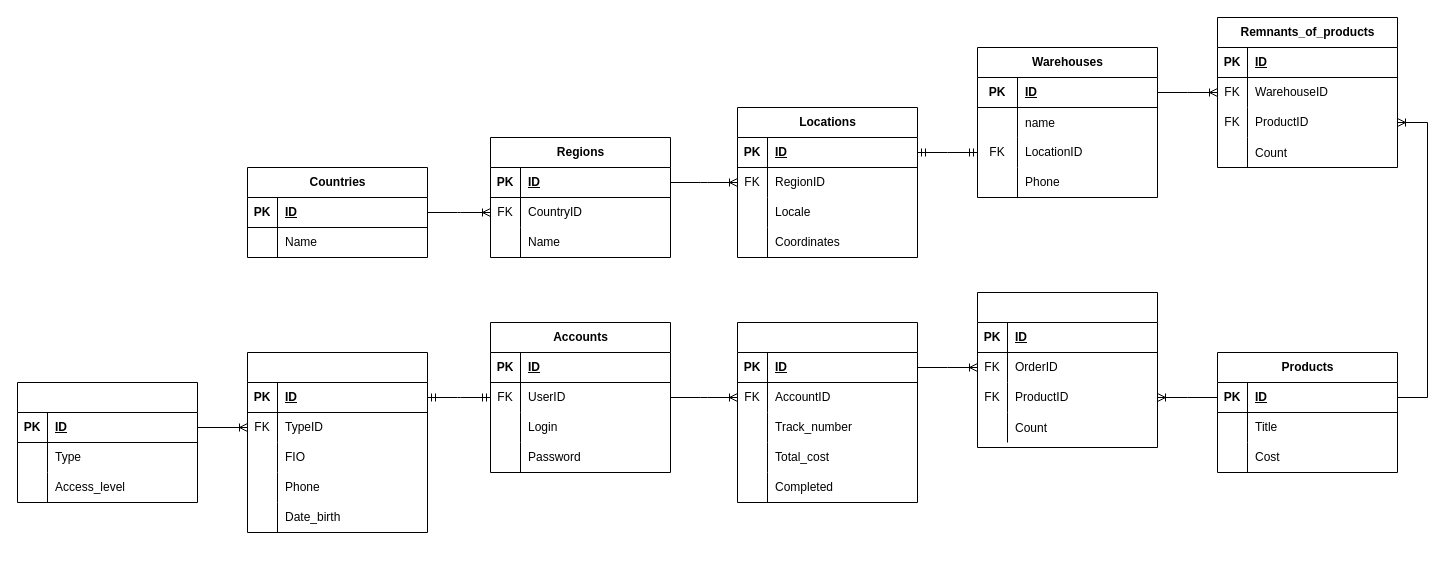
Some shapes in this 1453 by 575 pixel diagram are drawn without their labels. Each missing label, with the box of its shape:
List_of_products: (976, 292, 1158, 448)
Orders: (736, 322, 918, 502)
TypesOfUsers: (16, 382, 198, 502)
Users: (246, 352, 428, 532)
